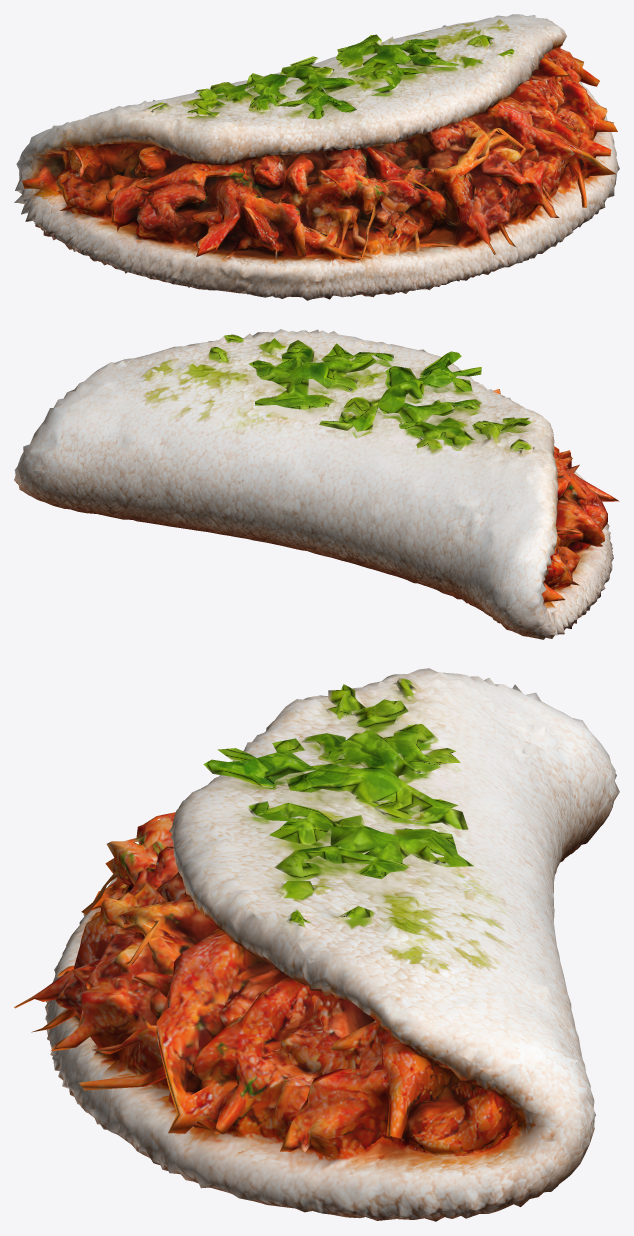
Rendered from Baobu-tapioca.glb.
3 views of the same model, one above another, from view 1: azimuth 30°, elevation 25°; view 2: azimuth 150°, elevation 25°; view 3: azimuth 270°, elevation 25° (orthographic). The views are drawn at different scales.
Visible parts, largest first — view 1: tripo_node_8fb18dc0-3813-4b2f-92da-b7ba0c2ba2d4; view 2: tripo_node_8fb18dc0-3813-4b2f-92da-b7ba0c2ba2d4; view 3: tripo_node_8fb18dc0-3813-4b2f-92da-b7ba0c2ba2d4.
Boxes of the visible parts, <box> form: tripo_node_8fb18dc0-3813-4b2f-92da-b7ba0c2ba2d4: <box>14,14,619,300</box>; tripo_node_8fb18dc0-3813-4b2f-92da-b7ba0c2ba2d4: <box>14,329,619,639</box>; tripo_node_8fb18dc0-3813-4b2f-92da-b7ba0c2ba2d4: <box>14,668,619,1221</box>.
Bounding box in the file's own units: 0.9823 × 0.2738 × 0.6173.
1 material, 1 textured.
